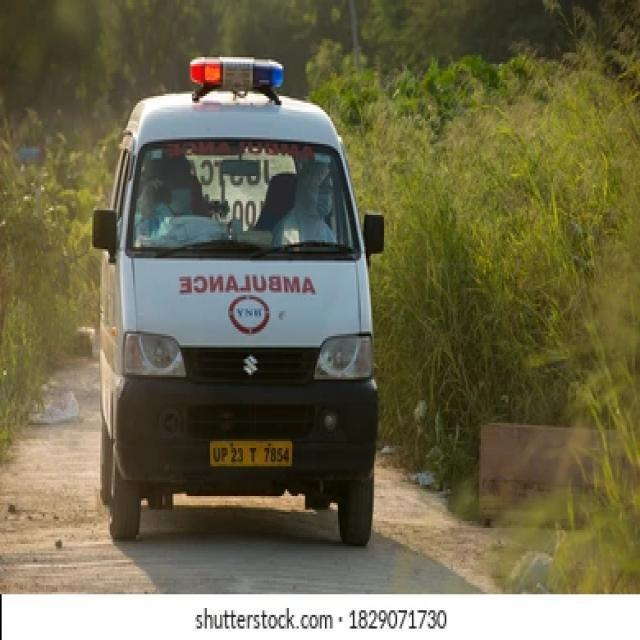emergency: (93, 54, 390, 538)
